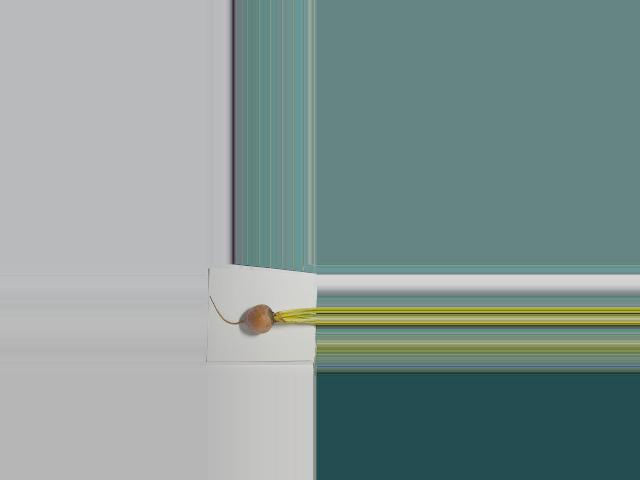beet: (209, 296, 316, 333)
